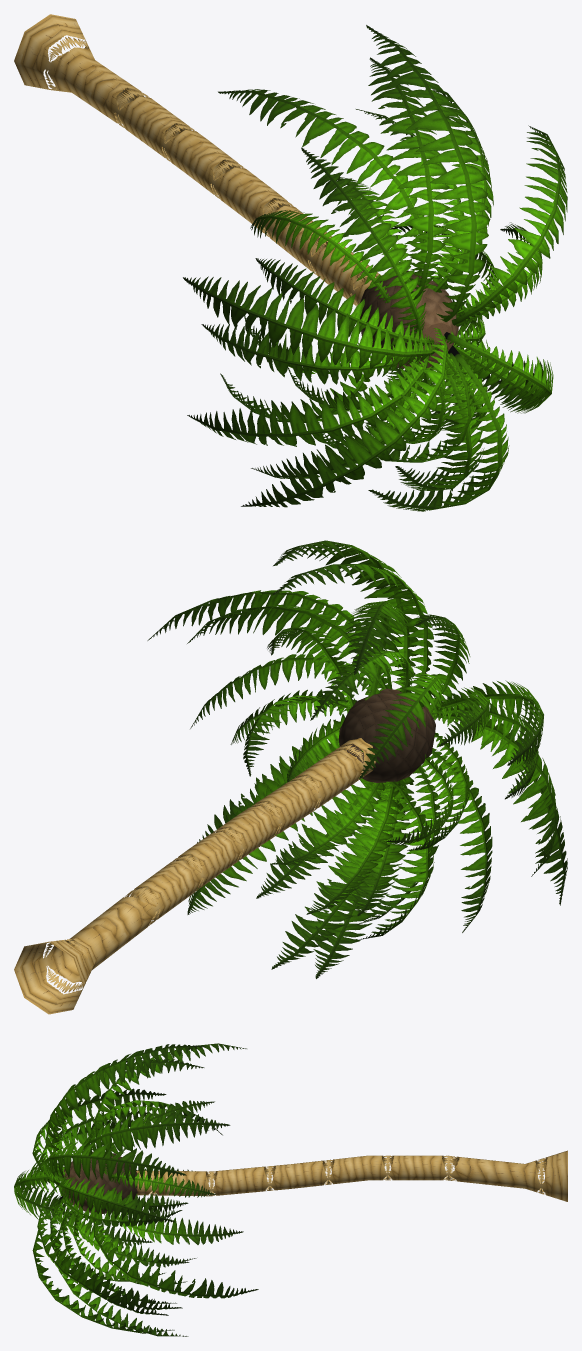
File: PalmTreeY.FBX
3 renders of one model, top to bottom at view 1: azimuth 30°, elevation 25°; view 2: azimuth 150°, elevation 25°; view 3: azimuth 270°, elevation 25°, orthographic. The views are drawn at different scales.
Parts seen in each view (by area): view 1: PalmTree; view 2: PalmTree; view 3: PalmTree.
Part boxes in pixels (box(x1,y1,x2,y2)): PalmTree: box(14, 14, 567, 511); PalmTree: box(14, 540, 567, 1014); PalmTree: box(14, 1043, 567, 1336).
Bounding box in the file's own units: 259 × 296 × 510.
